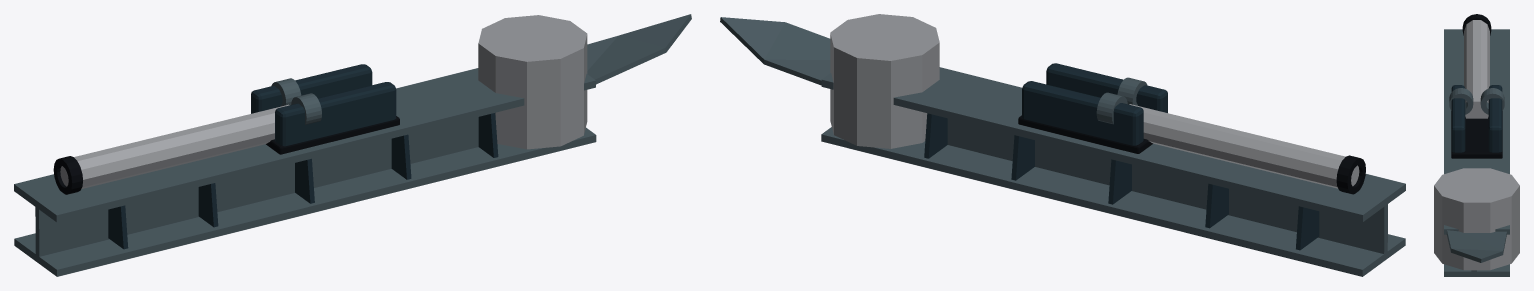
Rendered from aft_weapon_spar.glb.
3 renders of one model, left to right at view 1: azimuth 30°, elevation 25°; view 2: azimuth 150°, elevation 25°; view 3: azimuth 270°, elevation 25°, orthographic. The views are drawn at different scales.
Parts seen in each view (by area): view 1: Remaster_Material_Mechanical_BrushedNickel, as_mount, Remaster_Material_Hull_DeepSeaEnamel, as_barrel, Remaster_Material_Mechanical_ShadowEnamel; view 2: Remaster_Material_Mechanical_BrushedNickel, as_mount, Remaster_Material_Hull_DeepSeaEnamel, as_barrel, Remaster_Material_Mechanical_ShadowEnamel; view 3: Remaster_Material_Mechanical_BrushedNickel, as_mount, as_barrel, Remaster_Material_Hull_DeepSeaEnamel, Remaster_Material_Mechanical_ShadowEnamel.
Part boxes in pixels (bbox=[...]): Remaster_Material_Mechanical_BrushedNickel: bbox=[14, 14, 691, 276]; as_mount: bbox=[478, 15, 587, 149]; Remaster_Material_Hull_DeepSeaEnamel: bbox=[108, 64, 498, 249]; as_barrel: bbox=[60, 104, 289, 188]; Remaster_Material_Mechanical_ShadowEnamel: bbox=[53, 116, 399, 194]; Remaster_Material_Mechanical_BrushedNickel: bbox=[720, 17, 1405, 276]; as_mount: bbox=[830, 14, 939, 148]; Remaster_Material_Hull_DeepSeaEnamel: bbox=[924, 63, 1319, 250]; as_barrel: bbox=[1129, 104, 1359, 188]; Remaster_Material_Mechanical_ShadowEnamel: bbox=[1018, 115, 1365, 194]; Remaster_Material_Mechanical_BrushedNickel: bbox=[1444, 29, 1509, 276]; as_mount: bbox=[1434, 168, 1519, 270]; as_barrel: bbox=[1464, 20, 1489, 118]; Remaster_Material_Hull_DeepSeaEnamel: bbox=[1451, 85, 1502, 152]; Remaster_Material_Mechanical_ShadowEnamel: bbox=[1451, 14, 1502, 158].
Size of the model in its own units: 20.48 by 3.24 by 3.
5 materials, 3 textured.
